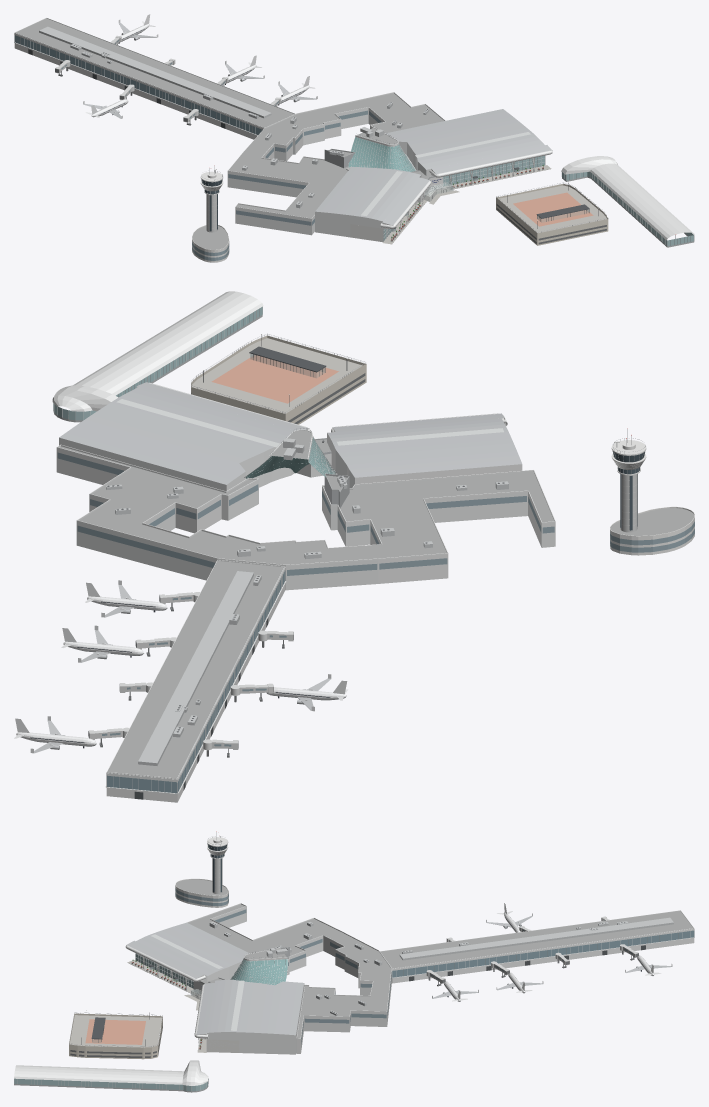
File: airport.glb
The picture shows the model from 3 angles, top to bottom: view 1: azimuth 30°, elevation 25°; view 2: azimuth 150°, elevation 25°; view 3: azimuth 270°, elevation 25°; orthographic projection. The views are drawn at different scales.
Parts seen in each view (by area): view 1: airport; view 2: airport; view 3: airport.
Part boxes in pixels (x1,y1,x2,y2): airport: (14,14,694,262); airport: (14,291,694,802); airport: (14,831,694,1092).
Bounding box in the file's own units: 334 × 68.21 × 504.
